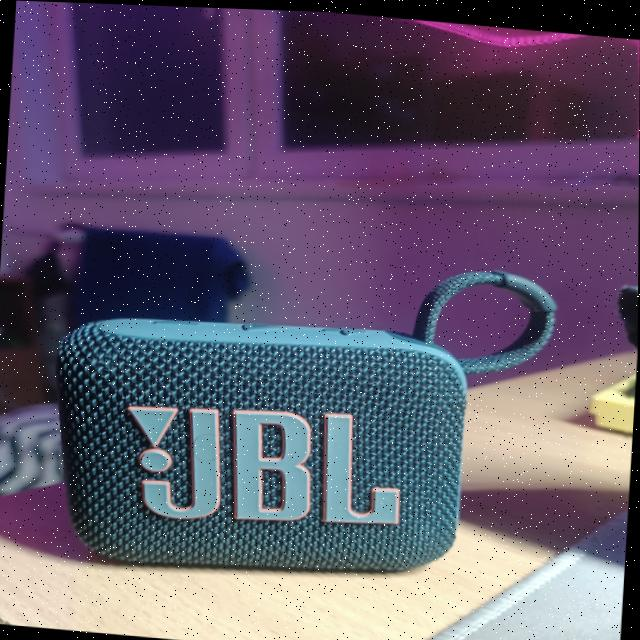column JBL: (55, 229, 562, 581)
